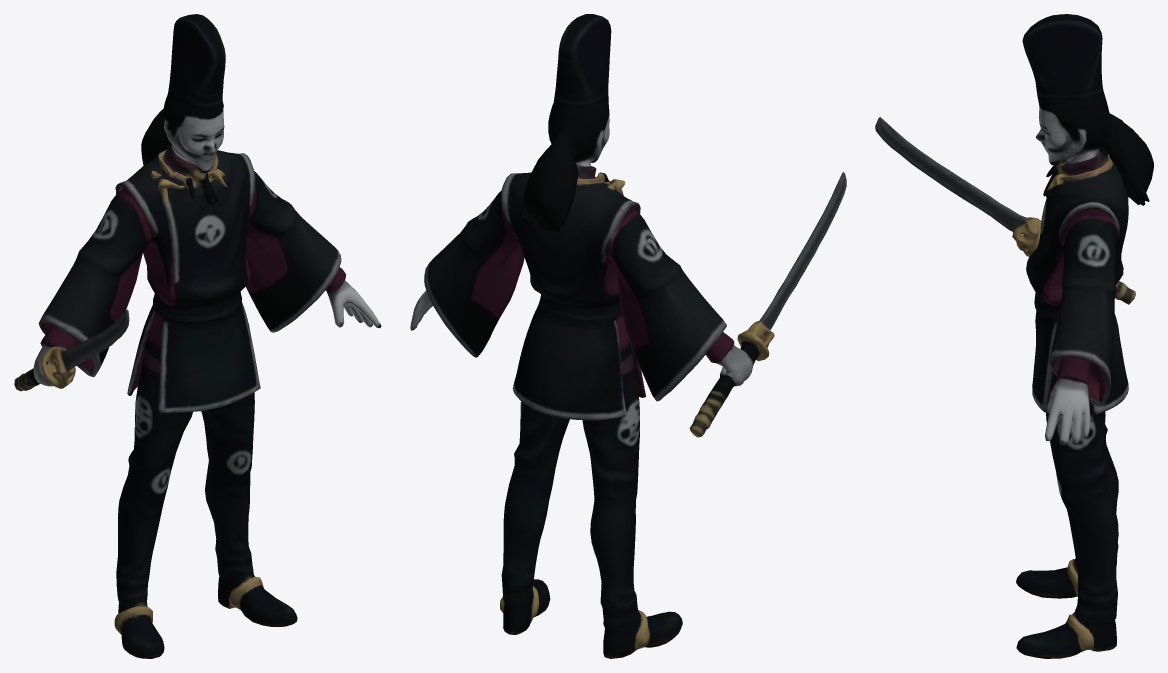
Rendered from uni-no-miya.glb.
3 views of the same model, side by side, from view 1: azimuth 30°, elevation 25°; view 2: azimuth 150°, elevation 25°; view 3: azimuth 270°, elevation 25° (orthographic).
Parts seen in each view (by area): view 1: geometry_0; view 2: geometry_0; view 3: geometry_0.
Part boxes in pixels (left/top/right/bottom): geometry_0: left=14, top=14, right=381, bottom=658; geometry_0: left=410, top=14, right=846, bottom=658; geometry_0: left=875, top=14, right=1153, bottom=658.
Size of the model in its own units: 0.5899 by 1 by 0.4188.
1 material, 1 textured.
